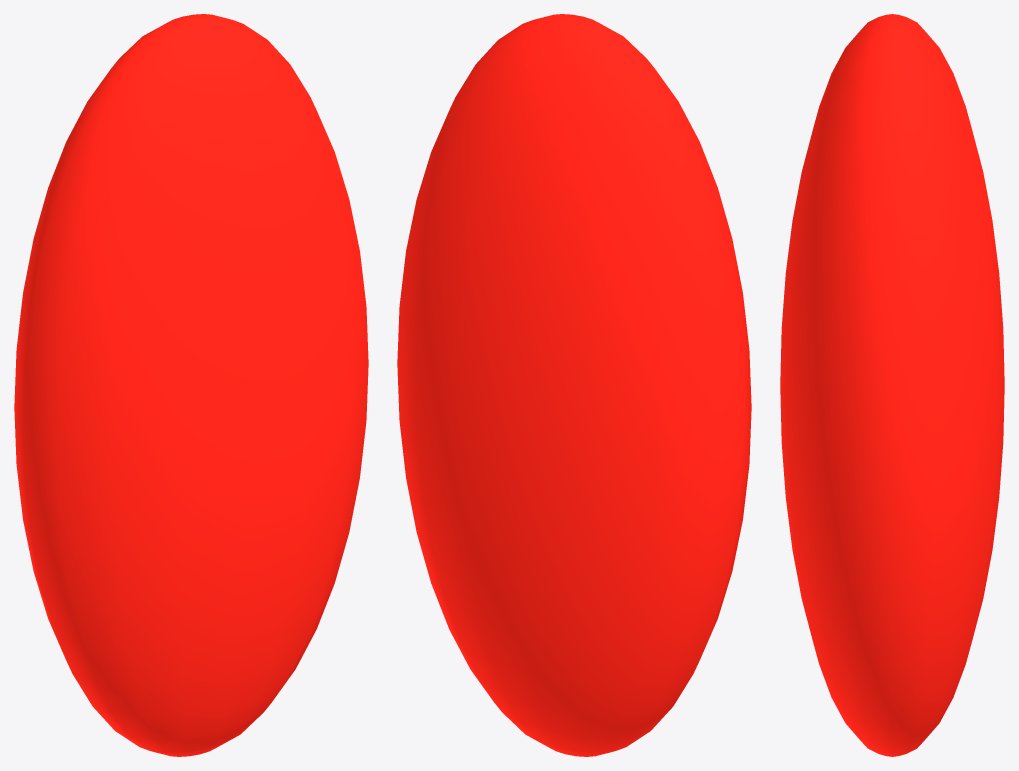
The model's file is QMonster_OriginalCore.fbx.
3 renders of one model, left to right at view 1: azimuth 30°, elevation 25°; view 2: azimuth 150°, elevation 25°; view 3: azimuth 270°, elevation 25°, orthographic.
Parts seen in each view (by area): view 1: COALER_V03_CHEST_CORE_GEO.001; view 2: COALER_V03_CHEST_CORE_GEO.001; view 3: COALER_V03_CHEST_CORE_GEO.001.
Boxes of the visible parts, left/top/right/bottom form: COALER_V03_CHEST_CORE_GEO.001: left=14, top=14, right=368, bottom=756; COALER_V03_CHEST_CORE_GEO.001: left=397, top=14, right=751, bottom=756; COALER_V03_CHEST_CORE_GEO.001: left=780, top=14, right=1004, bottom=756.
Size of the model in its own units: 24 by 50 by 14.
